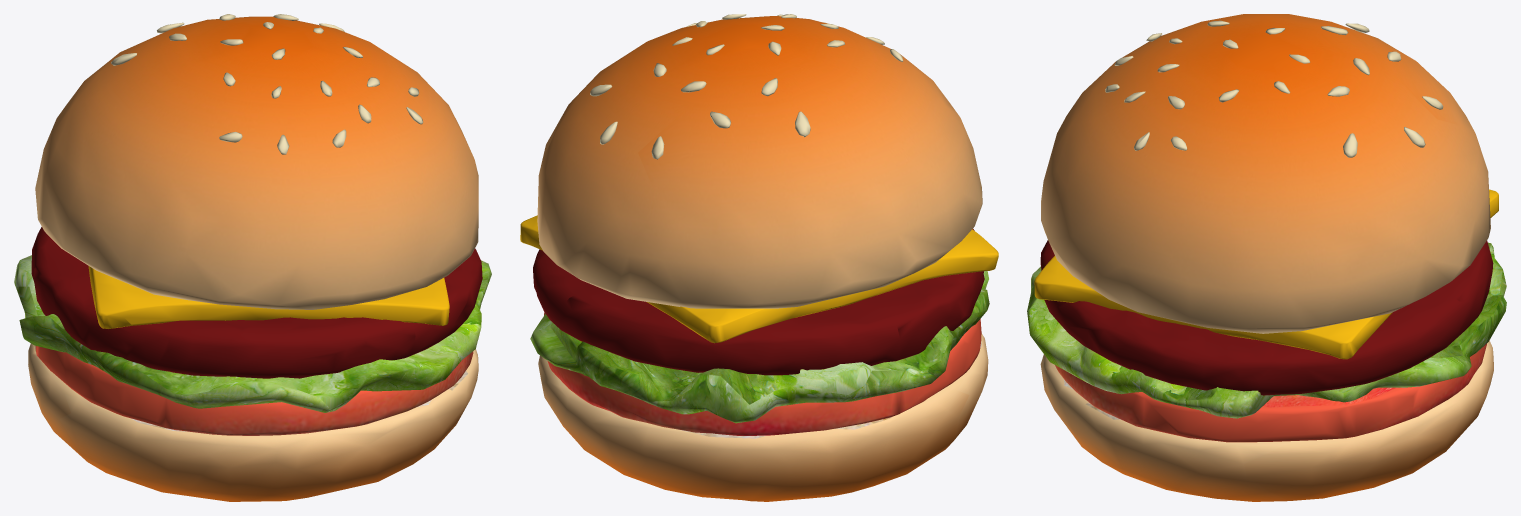
3 renders of one model, left to right at view 1: azimuth 30°, elevation 25°; view 2: azimuth 150°, elevation 25°; view 3: azimuth 270°, elevation 25°, orthographic.
Parts seen in each view (by area): view 1: Sphere001, bread_base_12 - Default_0, beef_Material #6_0, Group58080, Object001_02 - Default_0, cheef_05 - Default_0, Sesame_10 - Default_0; view 2: Sphere001, bread_base_12 - Default_0, beef_Material #6_0, Group58080, Object001_02 - Default_0, cheef_05 - Default_0, Sesame_10 - Default_0; view 3: Sphere001, bread_base_12 - Default_0, beef_Material #6_0, Object001_02 - Default_0, Group58080, cheef_05 - Default_0, Sesame_10 - Default_0.
Boxes of the visible parts, x1,y1,x2,y2 form: Sphere001: (35, 16, 478, 309); bread_base_12 - Default_0: (28, 343, 478, 501); beef_Material #6_0: (31, 227, 482, 378); Group58080: (14, 255, 491, 412); Object001_02 - Default_0: (35, 346, 473, 435); cheef_05 - Default_0: (88, 266, 449, 328); Sesame_10 - Default_0: (111, 14, 423, 154); Sphere001: (537, 16, 982, 308); bread_base_12 - Default_0: (538, 333, 988, 501); beef_Material #6_0: (533, 229, 984, 375); Group58080: (530, 271, 989, 423); Object001_02 - Default_0: (544, 312, 981, 435); cheef_05 - Default_0: (520, 215, 998, 343); Sesame_10 - Default_0: (590, 14, 903, 159); Sphere001: (1041, 14, 1490, 333); bread_base_12 - Default_0: (1040, 340, 1493, 501); beef_Material #6_0: (1040, 240, 1493, 395); Object001_02 - Default_0: (1055, 343, 1486, 442); Group58080: (1027, 242, 1506, 418); cheef_05 - Default_0: (1034, 189, 1498, 359); Sesame_10 - Default_0: (1105, 20, 1443, 157).
Bounding box in the file's own units: 0.6342 × 0.5817 × 0.6232.
7 materials, 3 textured.
